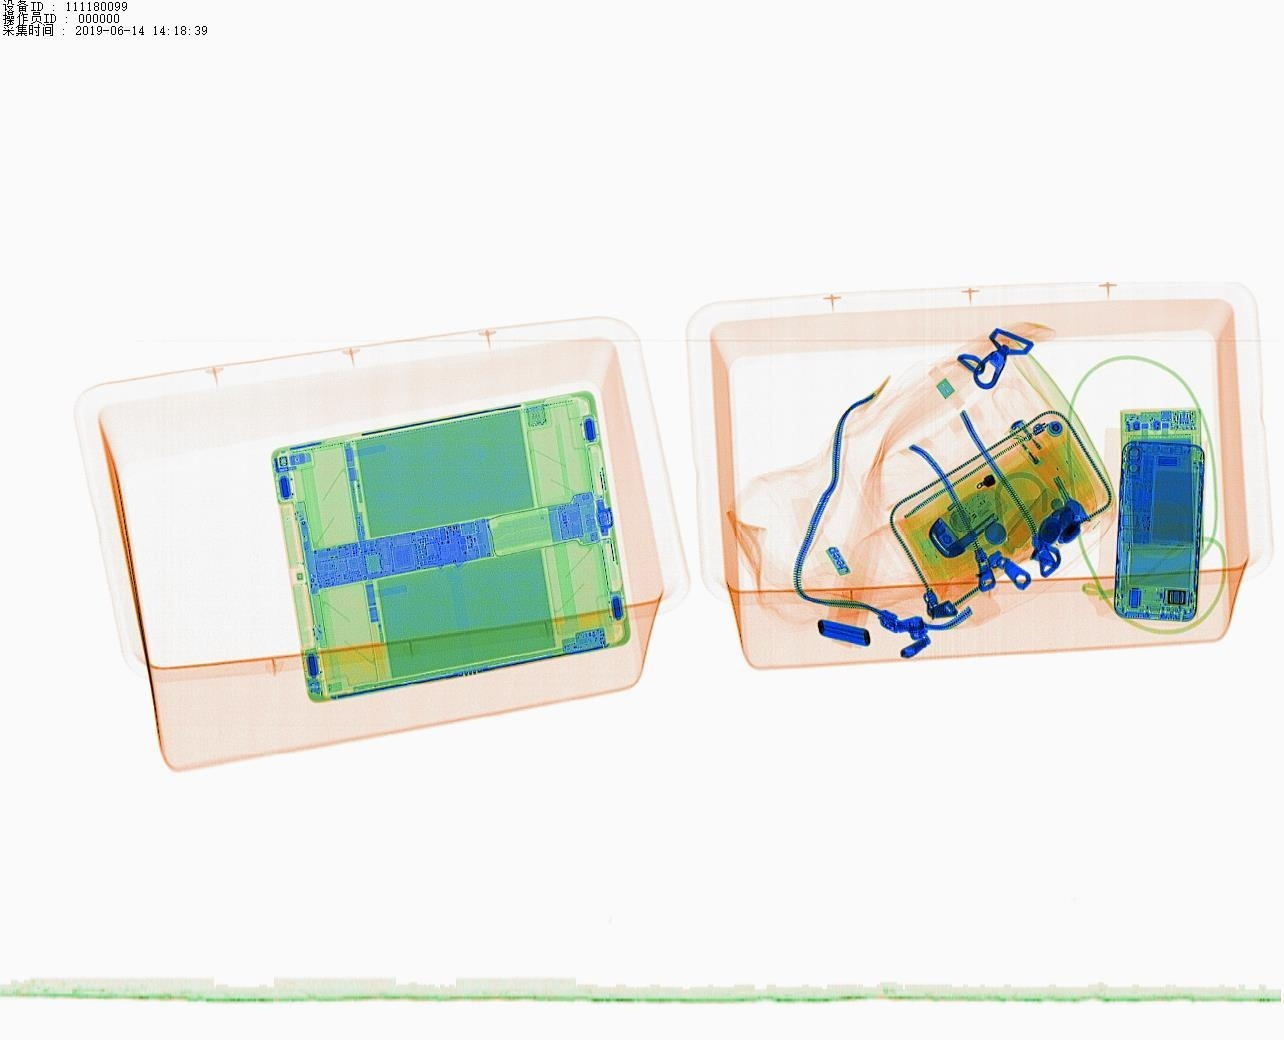NonmetallicFire: (1000, 408, 1077, 500)
